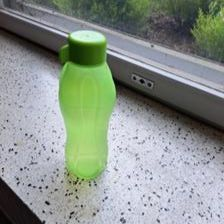bottle: (56, 29, 116, 179)
